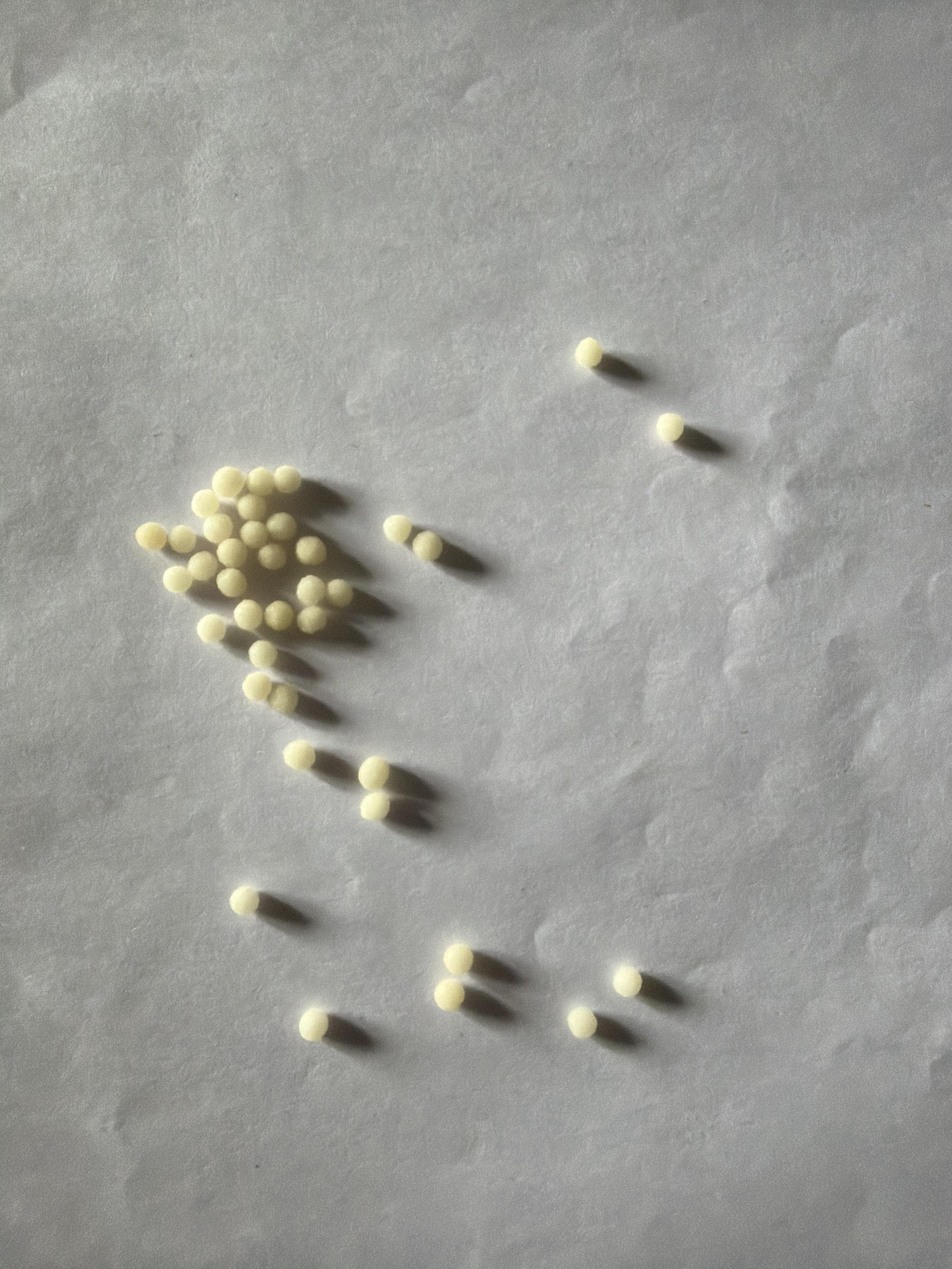pill: (212, 467, 245, 499), (283, 740, 316, 771), (358, 757, 389, 790), (299, 1007, 329, 1041), (186, 551, 220, 581), (443, 943, 474, 975), (566, 1006, 597, 1038), (434, 980, 465, 1011), (412, 530, 443, 561), (233, 599, 264, 630), (216, 567, 247, 598), (267, 684, 298, 715), (203, 513, 233, 545), (265, 512, 297, 542), (229, 885, 259, 916), (217, 537, 247, 568), (196, 613, 227, 643), (295, 536, 326, 566), (613, 965, 642, 997), (296, 575, 326, 605), (264, 601, 294, 631), (242, 672, 272, 702), (296, 605, 327, 634), (135, 522, 167, 550), (239, 521, 269, 550), (360, 791, 389, 821), (246, 467, 275, 497), (248, 640, 278, 669), (191, 489, 219, 520), (575, 337, 603, 368), (383, 515, 412, 544), (237, 493, 267, 521), (162, 566, 193, 593), (274, 465, 302, 494), (168, 525, 196, 554), (656, 413, 684, 442), (258, 543, 286, 571), (326, 579, 353, 608)
